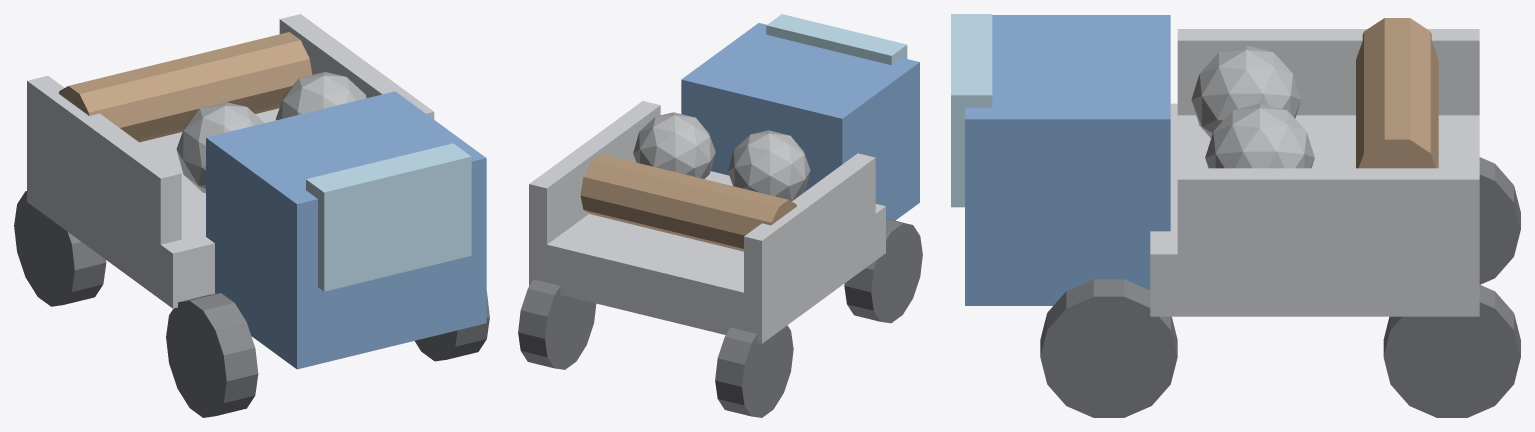
Rendered from truck_material.glb.
3 renders of one model, left to right at view 1: azimuth 30°, elevation 25°; view 2: azimuth 150°, elevation 25°; view 3: azimuth 270°, elevation 25°, orthographic. The views are drawn at different scales.
Parts seen in each view (by area): view 1: cab, windshield, bed_wall_left, flatbed, wheel_0, log_0, log_1, wheel_2, bed_wall_right, stone_0, stone_1, wheel_1; view 2: cab, flatbed, bed_wall_left, bed_wall_right, log_0, wheel_2, log_1, wheel_3, wheel_0, stone_0, stone_1, windshield; view 3: cab, bed_wall_right, flatbed, wheel_1, bed_wall_left, wheel_3, log_1, stone_0, stone_1, log_0, windshield, wheel_2.
Boxes of the visible parts, <box> form: cab: <box>206,91,486,369</box>; windshield: <box>306,143,471,291</box>; bed_wall_left: <box>27,75,181,276</box>; flatbed: <box>27,108,279,308</box>; wheel_0: <box>166,293,258,417</box>; log_0: <box>59,55,216,142</box>; log_1: <box>168,32,312,120</box>; wheel_2: <box>14,191,106,306</box>; bed_wall_right: <box>279,14,434,119</box>; stone_0: <box>176,102,264,193</box>; stone_1: <box>275,72,366,120</box>; wheel_1: <box>415,291,489,361</box>; cab: <box>681,23,919,220</box>; flatbed: <box>529,171,885,343</box>; bed_wall_left: <box>744,153,875,324</box>; bed_wall_right: <box>529,101,660,269</box>; log_0: <box>661,174,796,251</box>; wheel_2: <box>715,325,793,417</box>; log_1: <box>580,154,707,234</box>; wheel_3: <box>518,279,596,369</box>; wheel_0: <box>844,218,922,323</box>; stone_0: <box>728,130,810,201</box>; stone_1: <box>633,112,715,178</box>; windshield: <box>766,14,907,65</box>; cab: <box>965,15,1170,305</box>; bed_wall_right: <box>1177,168,1479,291</box>; flatbed: <box>1150,103,1479,316</box>; wheel_1: <box>1040,279,1177,417</box>; bed_wall_left: <box>1177,29,1479,115</box>; wheel_3: <box>1383,285,1520,417</box>; log_1: <box>1356,70,1438,168</box>; stone_0: <box>1191,45,1300,138</box>; stone_1: <box>1205,103,1314,168</box>; log_0: <box>1356,18,1438,122</box>; windshield: <box>951,14,992,207</box>; wheel_2: <box>1479,157,1520,284</box>.
Size of the model in its own units: 0.26 by 0.2337 by 0.415.
